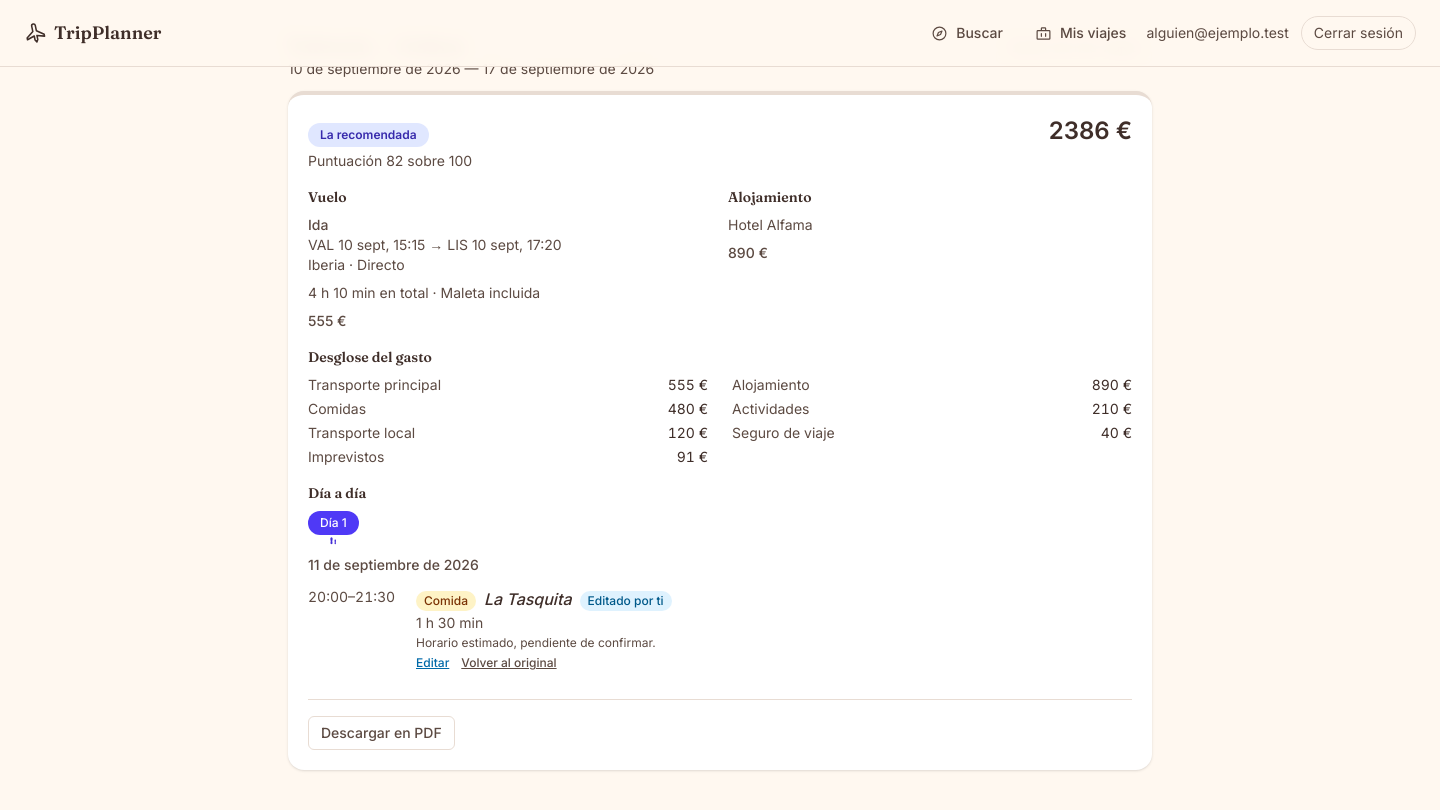
Test: Mis viajes guardados — edición del itinerario › deja volver al original y quita la marca
(page scrolled)
Click the button "Volver al original" at (509, 663), box [461, 655, 557, 671]
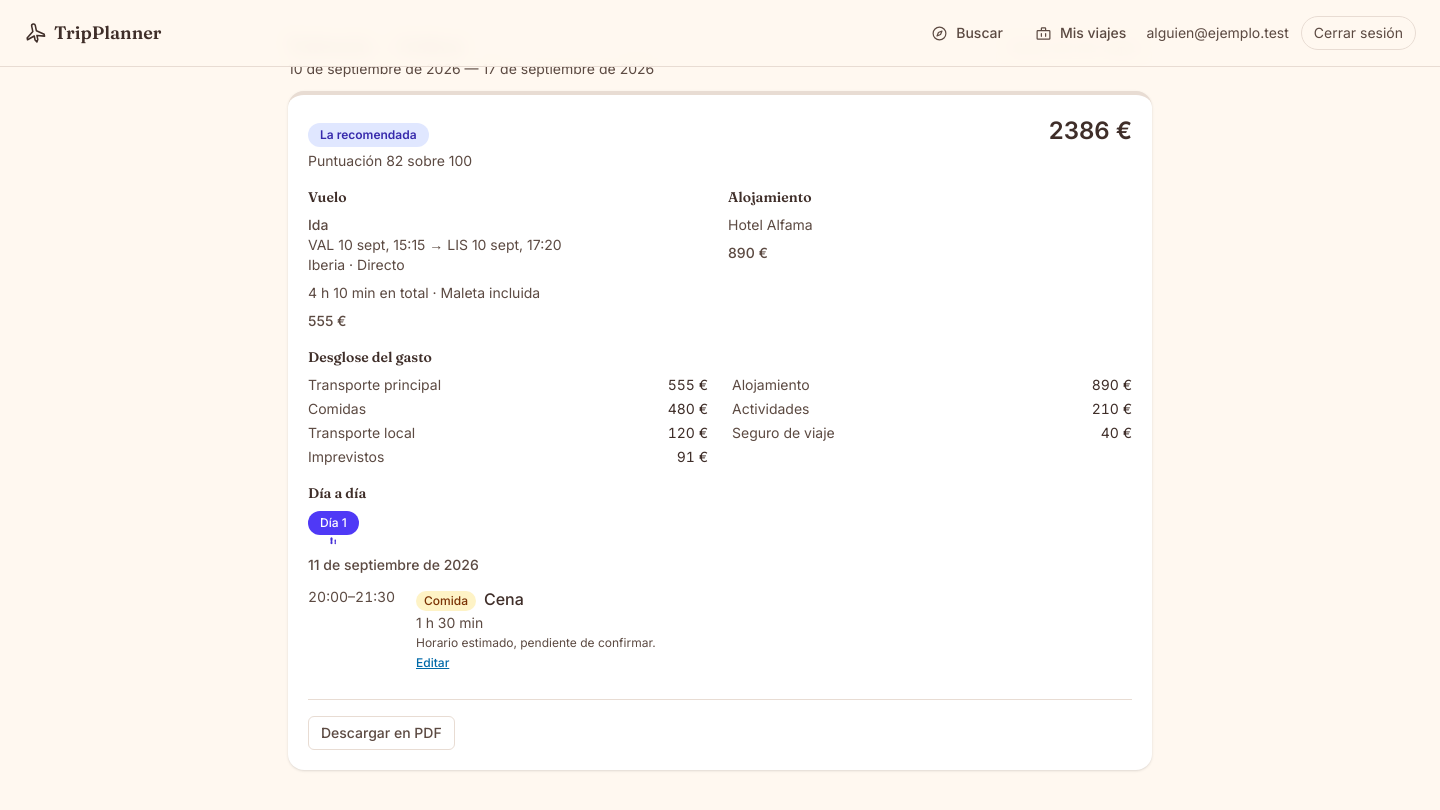
Expected: the text "Cena" is shown, [484, 587, 524, 611]
Expected: the text "Editado por ti" is gone
